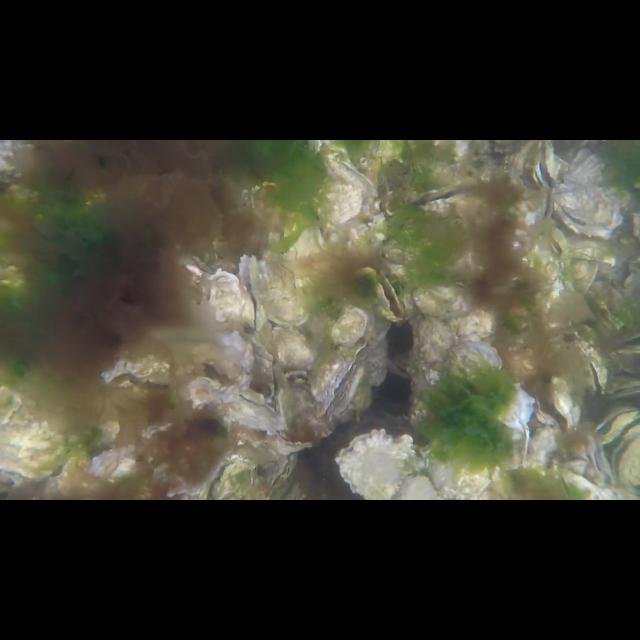Oyster-Closed: (439, 342, 536, 432), (420, 430, 514, 500), (0, 386, 66, 484), (308, 140, 366, 232), (282, 209, 336, 287), (260, 249, 308, 329), (411, 318, 455, 404), (214, 391, 288, 437), (411, 284, 481, 320), (553, 228, 617, 266), (272, 326, 318, 376), (87, 444, 139, 484), (566, 256, 600, 296)
Oyster-Open: (550, 151, 640, 241), (334, 428, 414, 500), (311, 344, 367, 422), (527, 370, 581, 438), (103, 354, 173, 398), (330, 306, 390, 352), (241, 332, 277, 406), (610, 426, 640, 498), (207, 267, 243, 325), (238, 254, 262, 332), (407, 184, 469, 214), (578, 338, 608, 398), (586, 432, 616, 490), (593, 407, 640, 444), (376, 272, 406, 322), (532, 140, 558, 196), (272, 428, 316, 457), (606, 378, 640, 399)
